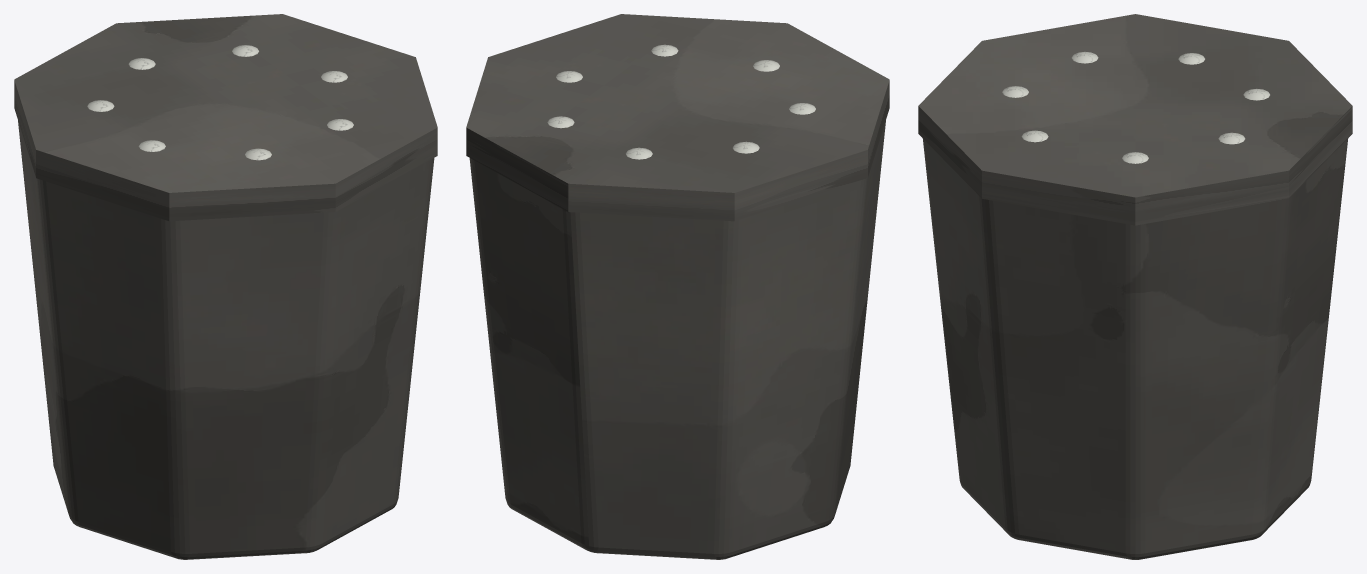
The model's file is razoredge-modern-planter.glb.
The picture shows the model from 3 angles, left to right: view 1: azimuth 30°, elevation 25°; view 2: azimuth 150°, elevation 25°; view 3: azimuth 270°, elevation 25°; orthographic projection.
Visible parts, largest first — view 1: pot, rim; view 2: pot, rim; view 3: pot, rim.
Part boxes in pixels (left/top/right/bottom): pot: left=18, top=121, right=434, bottom=559; rim: left=14, top=14, right=437, bottom=221; pot: left=469, top=121, right=885, bottom=559; rim: left=466, top=14, right=889, bottom=221; pot: left=922, top=138, right=1348, bottom=559; rim: left=918, top=14, right=1352, bottom=225.
Size of the model in its own units: 0.49 by 0.482 by 0.49.
Materials: 3 (3 with a texture image).
